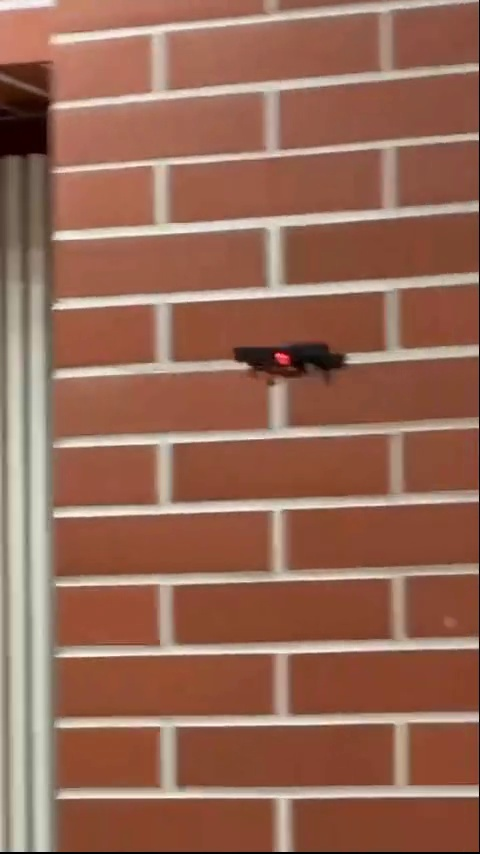drone: (230, 335, 352, 388)
